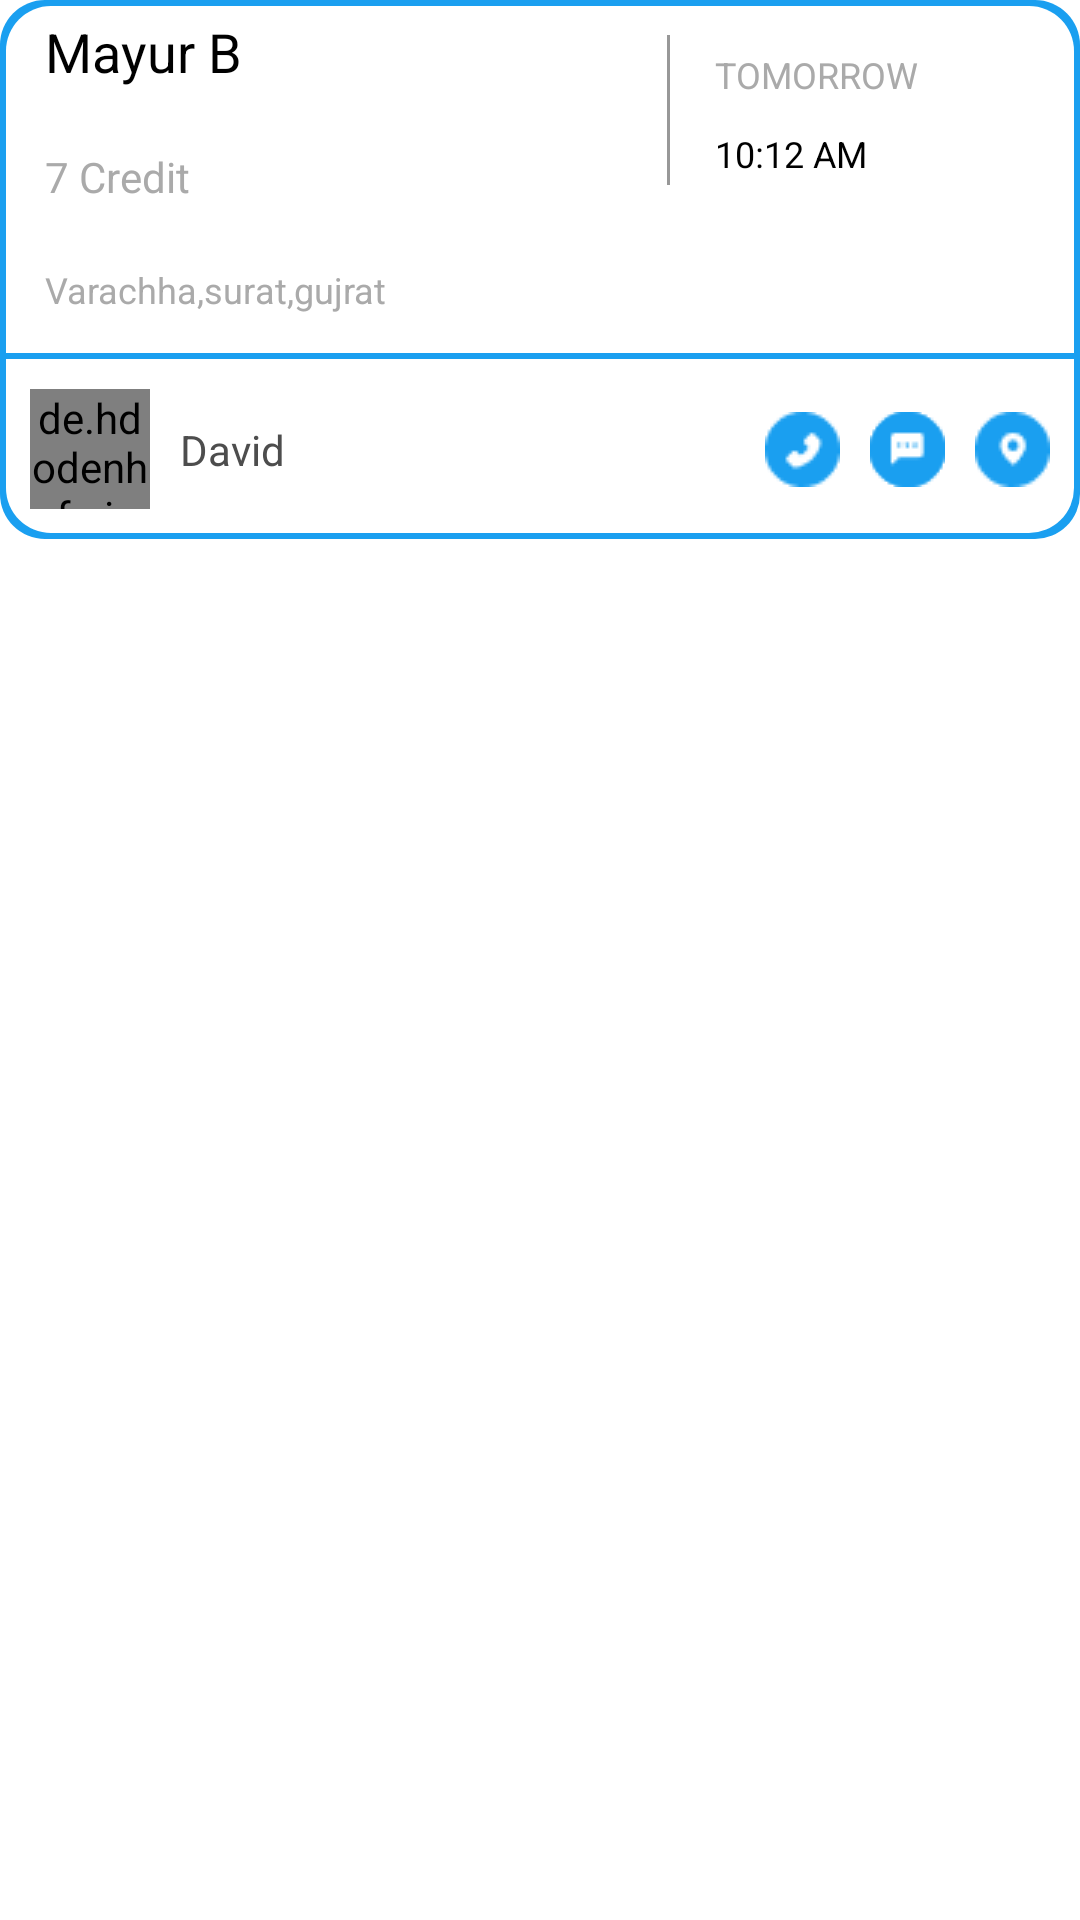

Point at icon controls on the screen. Image size 1080x1920, points as [x,y].
location: [1012,449]
